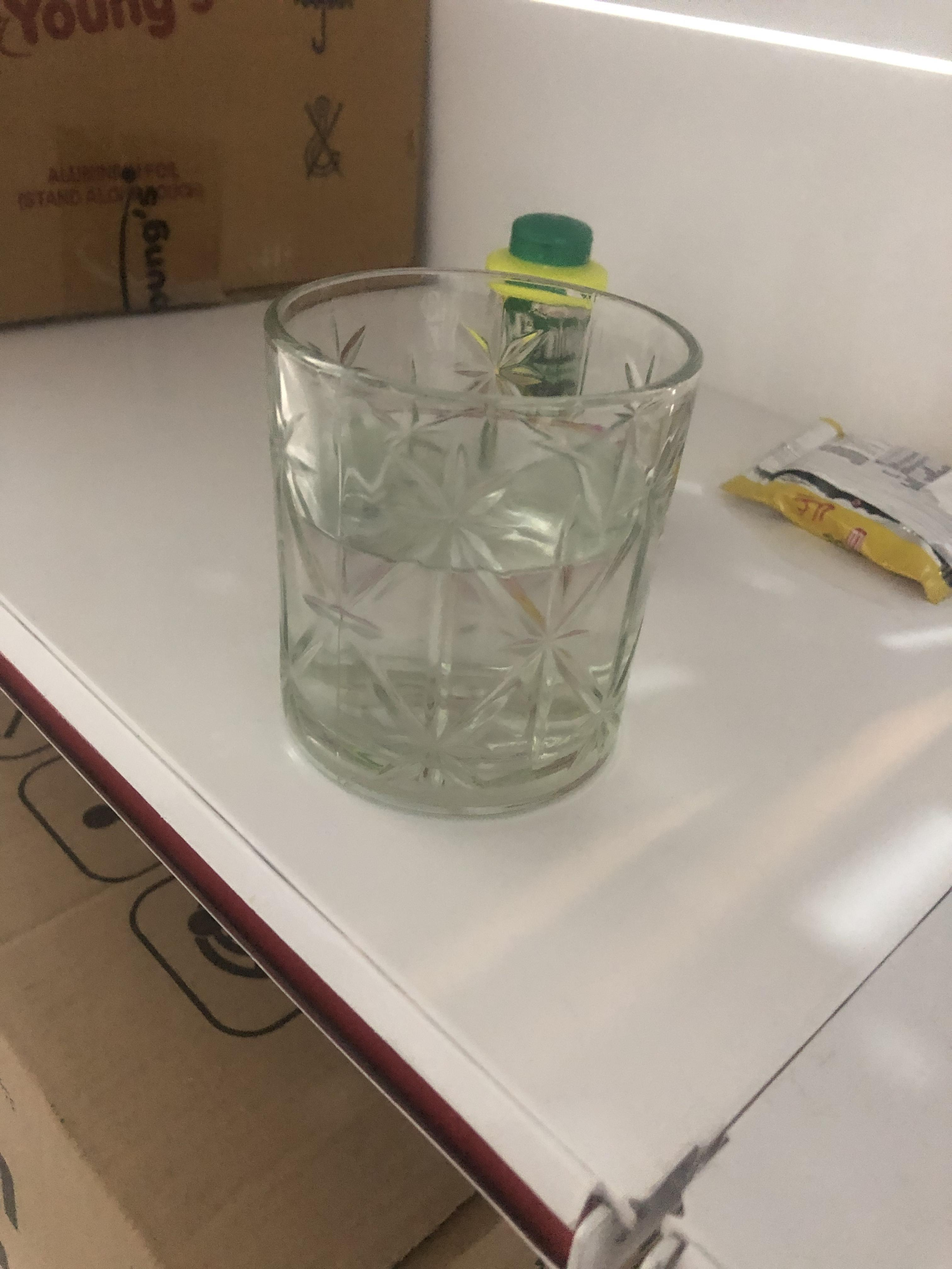glass-normal: (266, 240, 701, 819)
